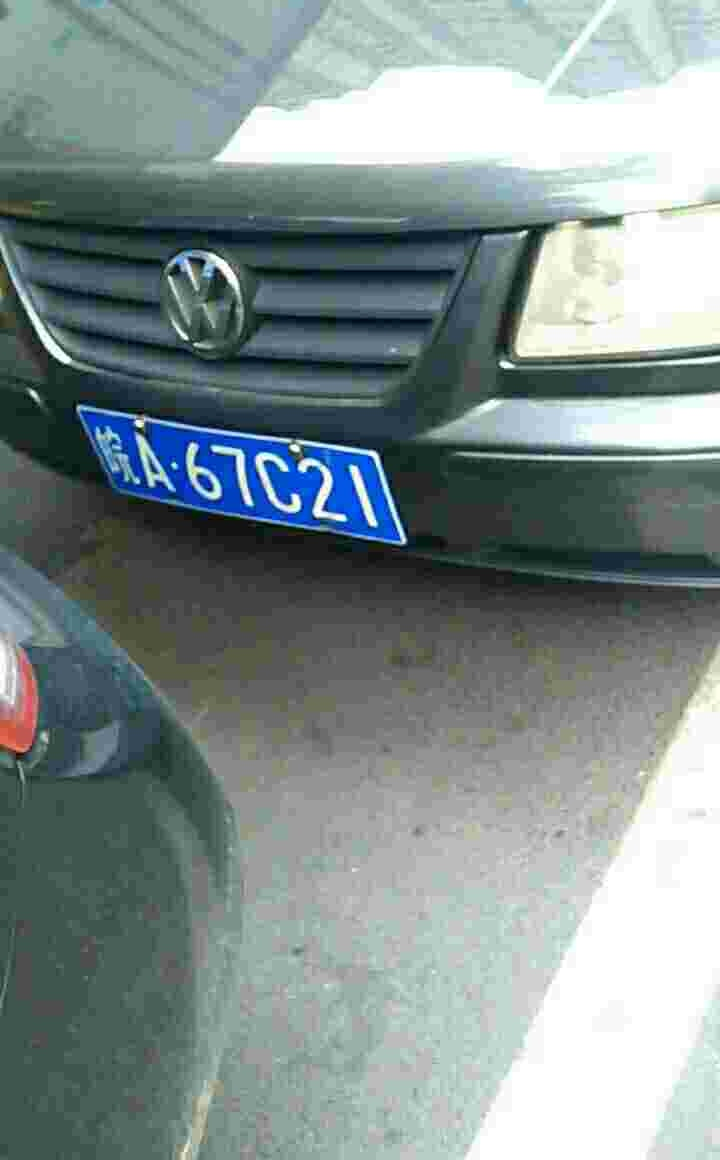license_plate: (82, 394, 405, 555)
